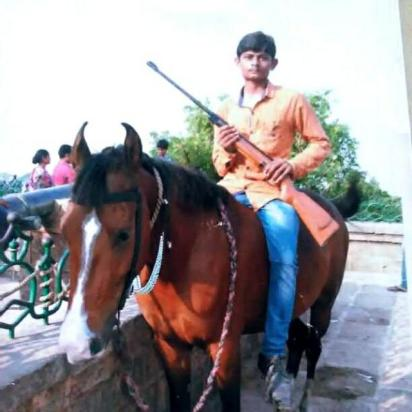Gun: (145, 58, 342, 250)
